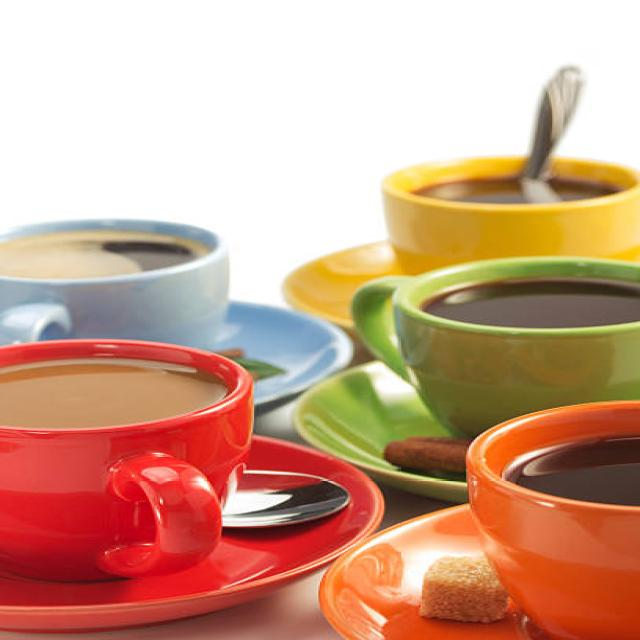Red_cup: (0, 339, 252, 580), (468, 401, 639, 639)
